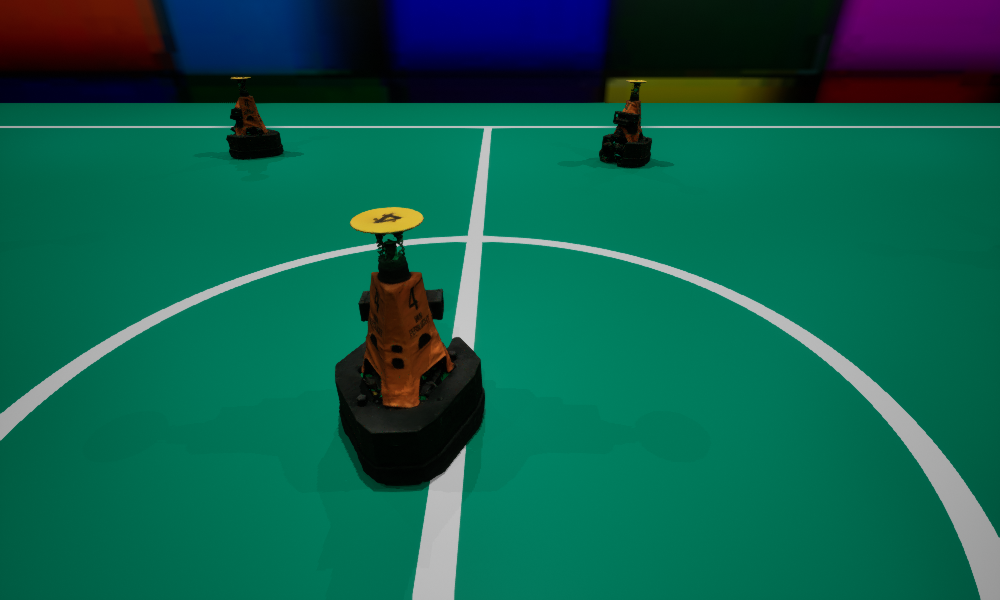0 orange robot TechUnited: (335, 207, 484, 485), (226, 77, 283, 158), (599, 80, 651, 166)
